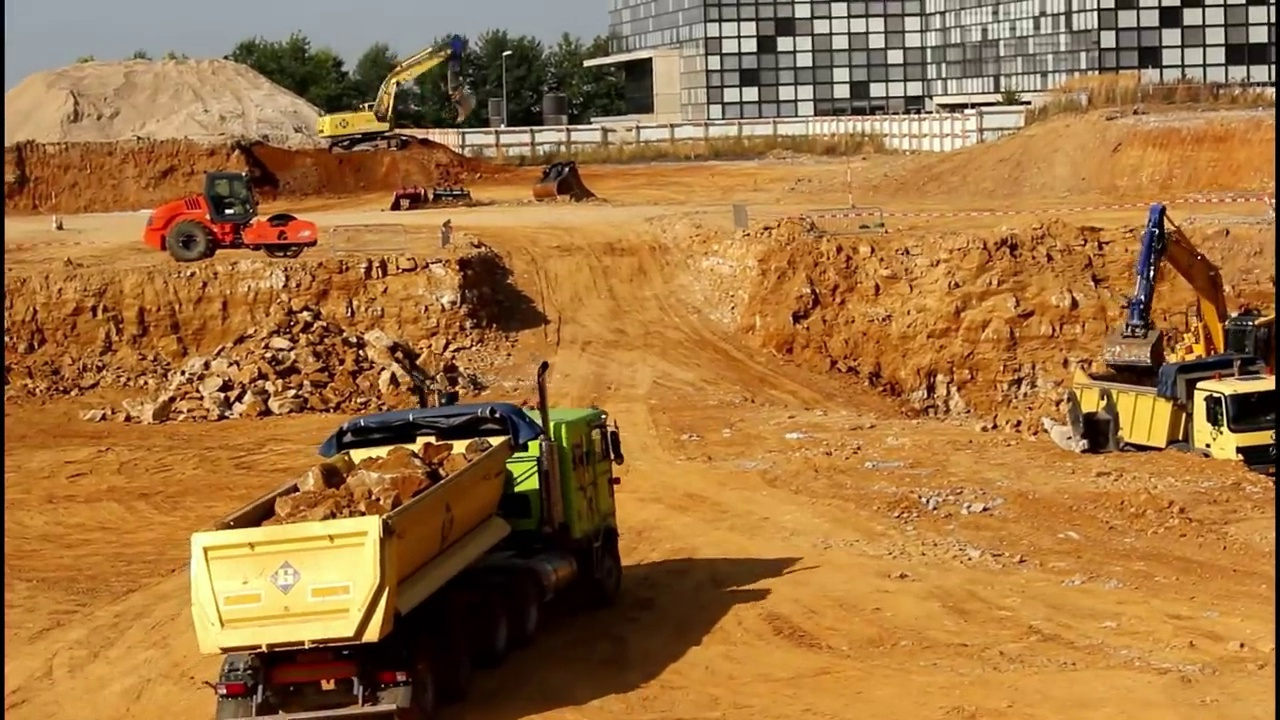compactor: (143, 171, 323, 264)
excavator: (1098, 199, 1280, 431), (313, 41, 479, 151)
truck: (188, 357, 634, 720), (1065, 362, 1280, 495)
